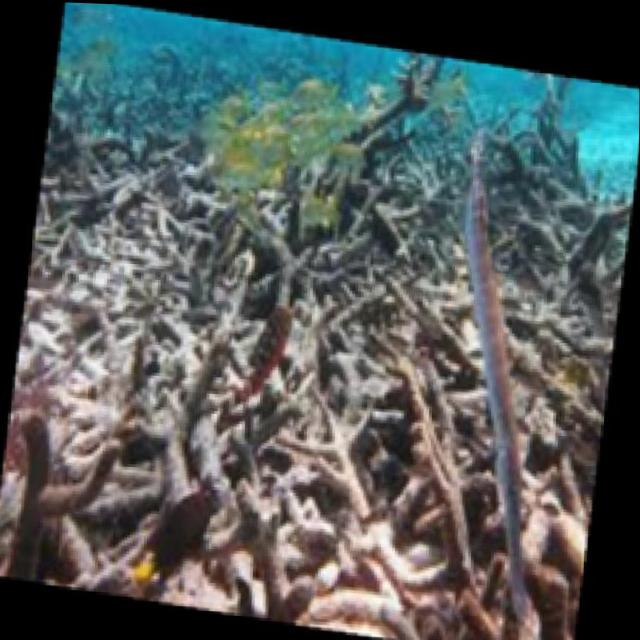Dead Coral: (67, 53, 571, 617)
